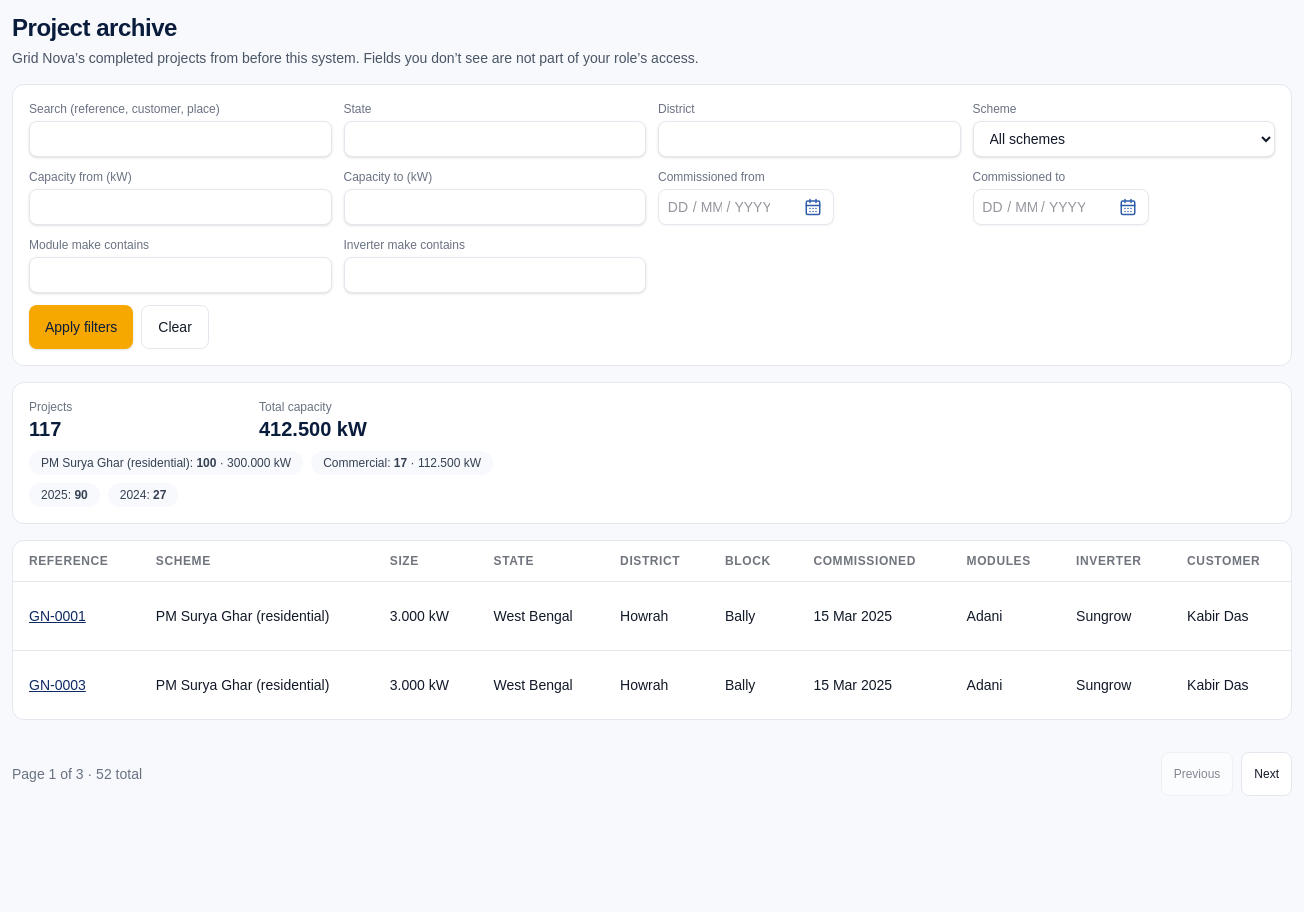
Test: archive list › does not send an inverted capacity range and says what is wrong
In the field labelled "Capacity from (kW)": (180, 207) [29, 189, 332, 225], type "12"
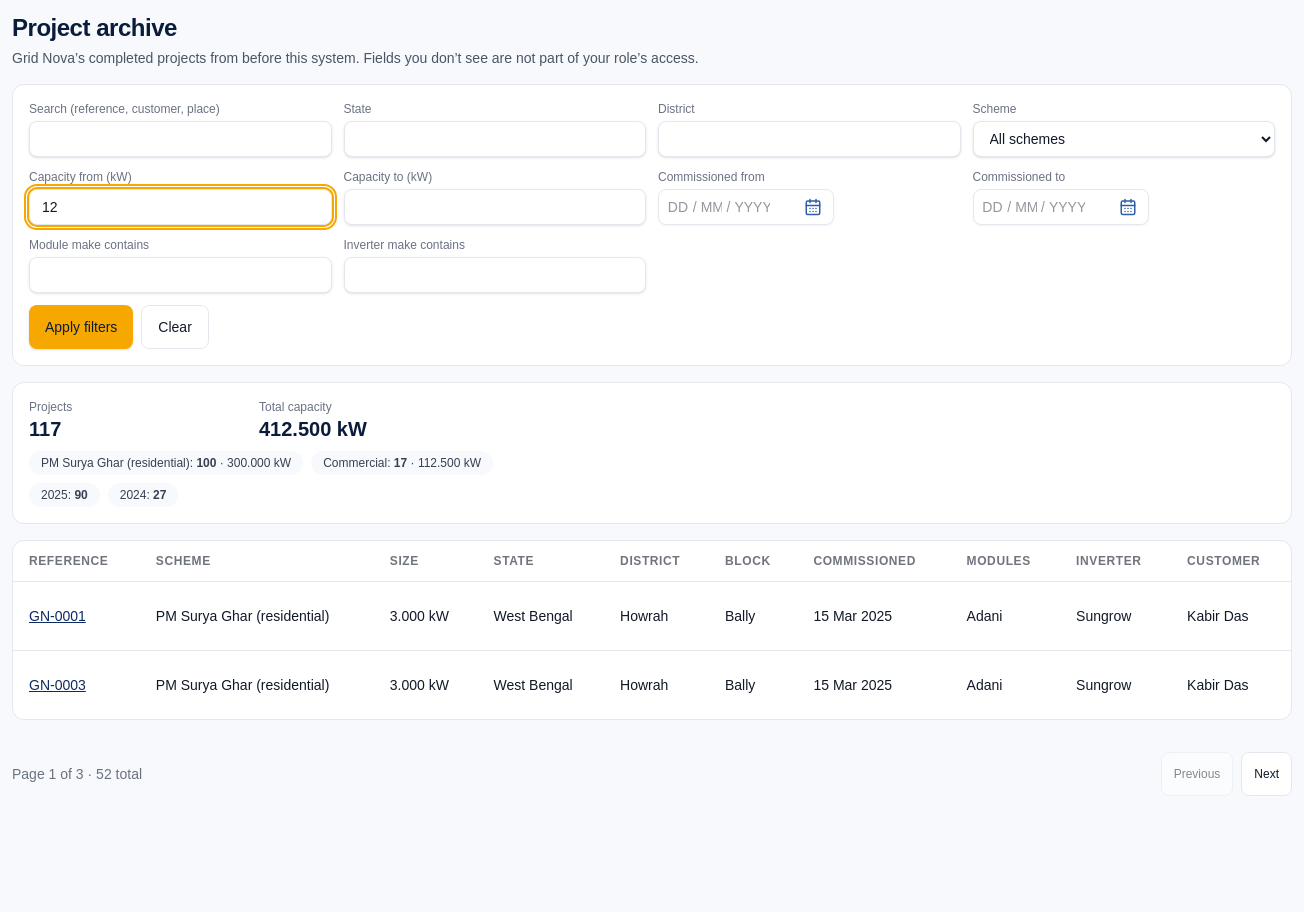
In the field labelled "Capacity to (kW)": (495, 207) [344, 189, 646, 225], type "3"
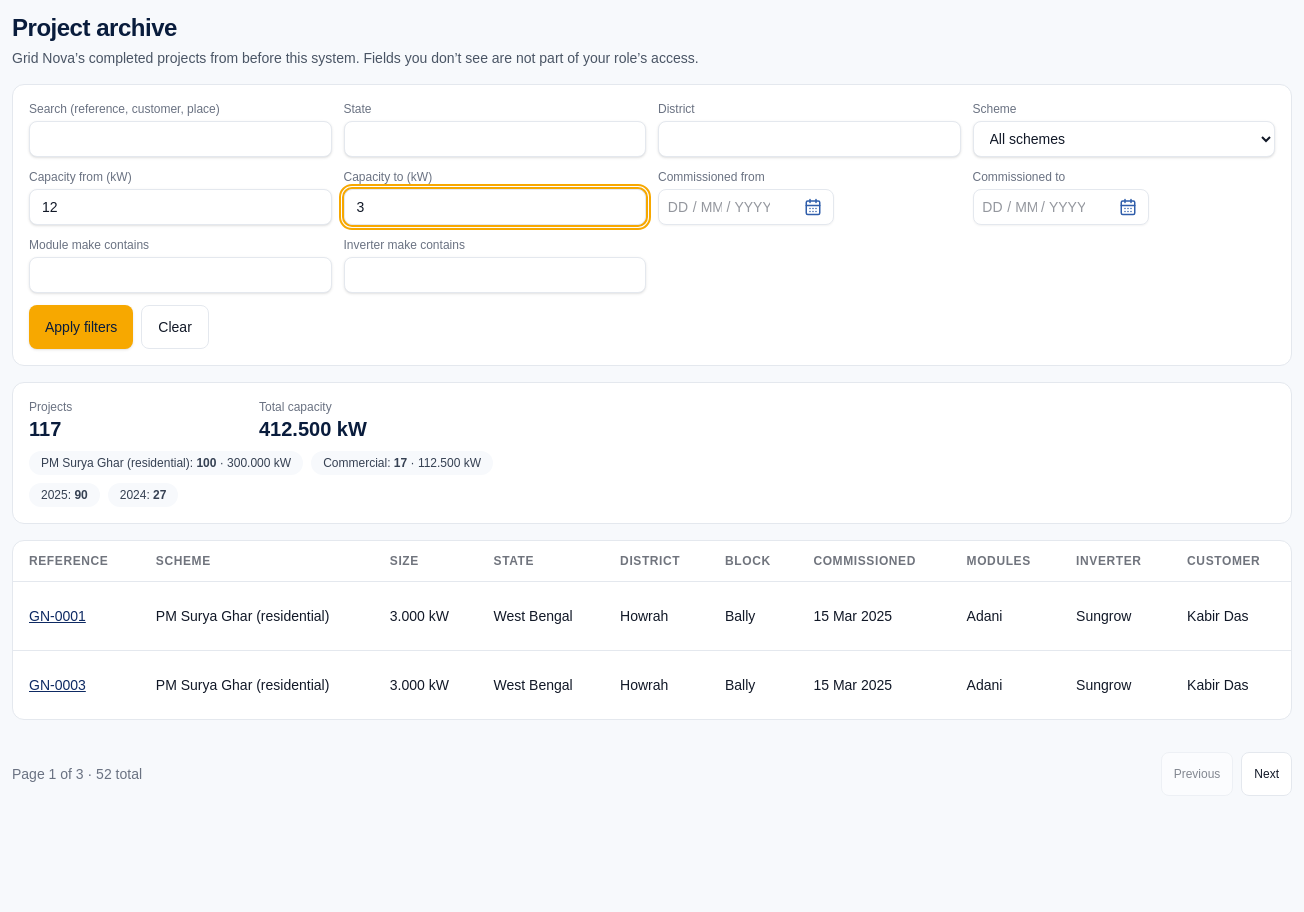
Click the button "Apply filters": (81, 327) [29, 305, 133, 349]
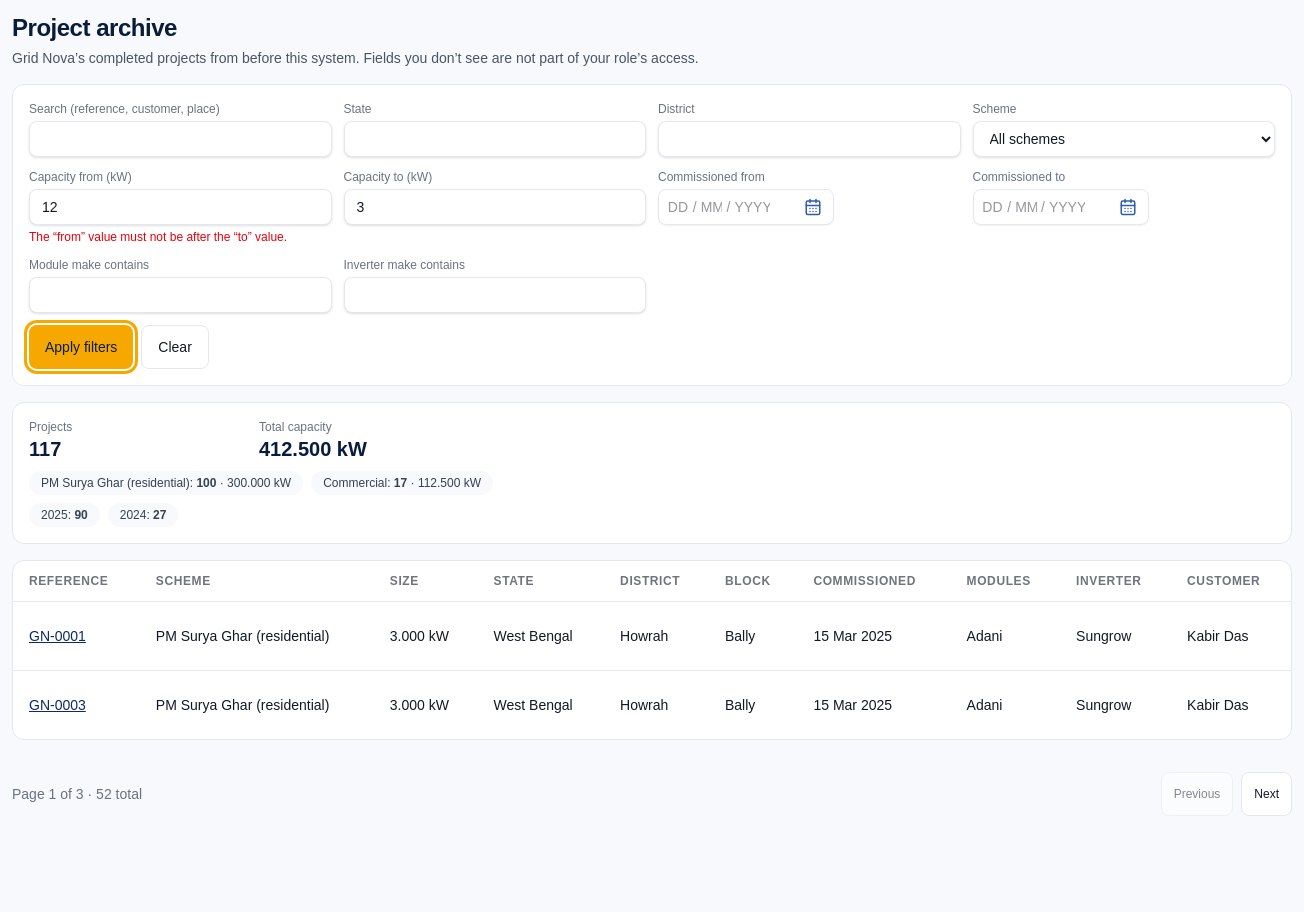
Check: the text "The “from” value must not be after the “to” value." is shown, box [29, 229, 332, 245]
